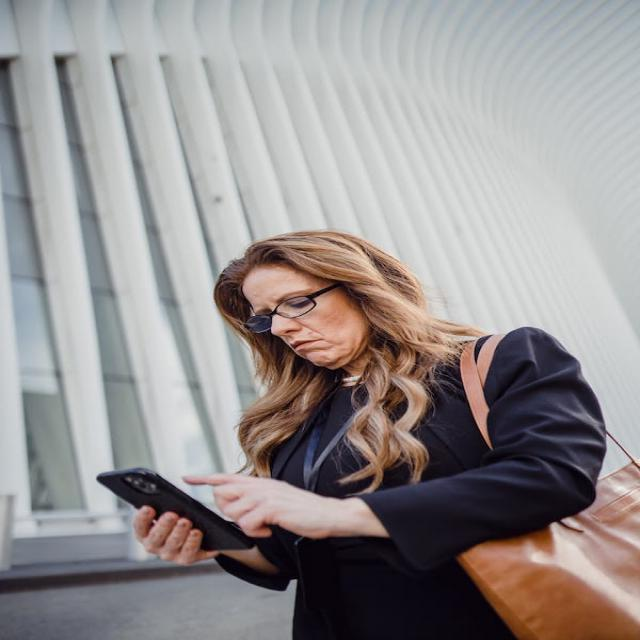phone: (97, 464, 258, 550)
